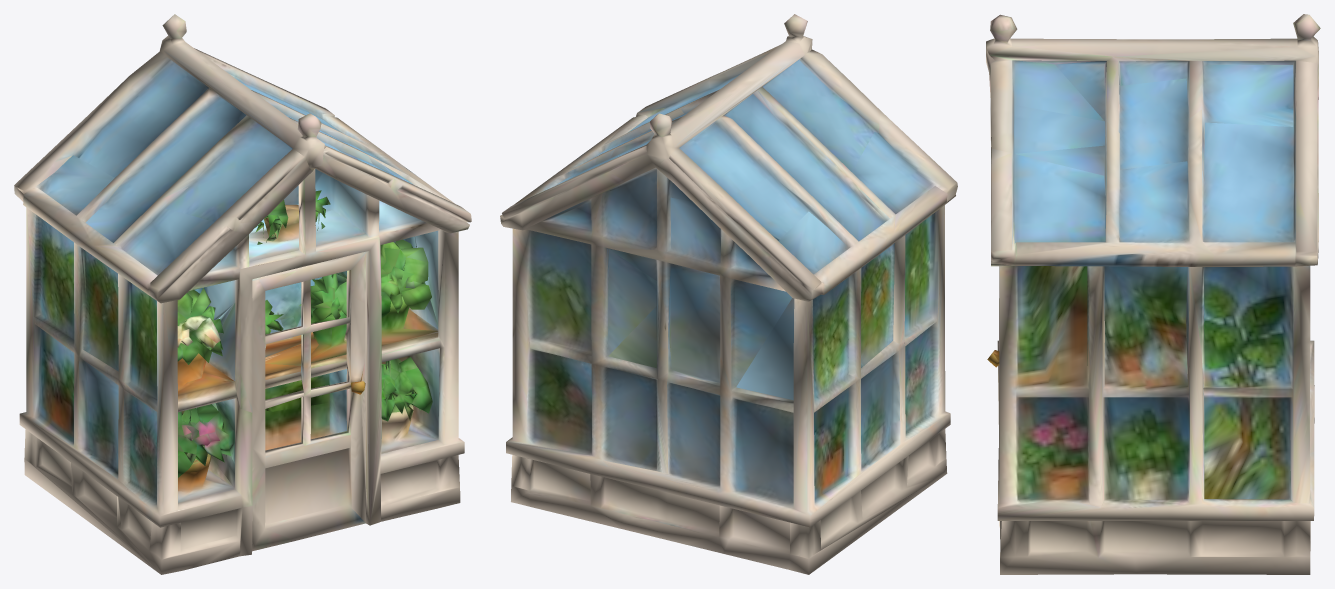
File: greenhouse.glb
3 renders of one model, left to right at view 1: azimuth 30°, elevation 25°; view 2: azimuth 150°, elevation 25°; view 3: azimuth 270°, elevation 25°, orthographic. The views are drawn at different scales.
Parts seen in each view (by area): view 1: model; view 2: model; view 3: model.
Part boxes in pixels (x1=…): model: x1=14, y1=14, x2=471, y2=574; model: x1=500, y1=14, x2=957, y2=574; model: x1=986, y1=14, x2=1320, y2=574.
Bounding box in the file's own units: 1.48 × 1.91 × 1.21.
1 material, 1 textured.
